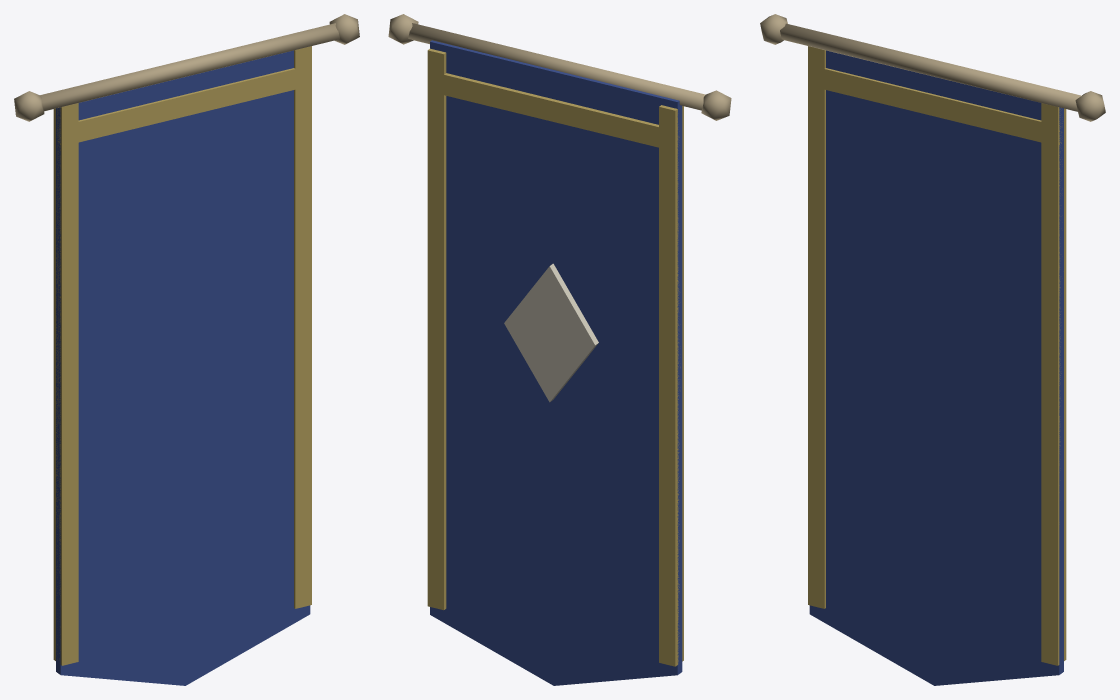
Rendered from spiked_slime_banner_v0.glb.
3 views of the same model, side by side, from view 1: azimuth 30°, elevation 25°; view 2: azimuth 150°, elevation 25°; view 3: azimuth 330°, elevation 25° (orthographic).
Visible parts, largest first — view 1: spiked_slime_banner_v0; view 2: spiked_slime_banner_v0; view 3: spiked_slime_banner_v0.
Boxes of the visible parts, left/top/right/bottom form: spiked_slime_banner_v0: left=14, top=14, right=359, bottom=685; spiked_slime_banner_v0: left=388, top=14, right=731, bottom=685; spiked_slime_banner_v0: left=760, top=14, right=1105, bottom=685.
Bounding box in the file's own units: 1.04 × 1.84 × 0.0933.
